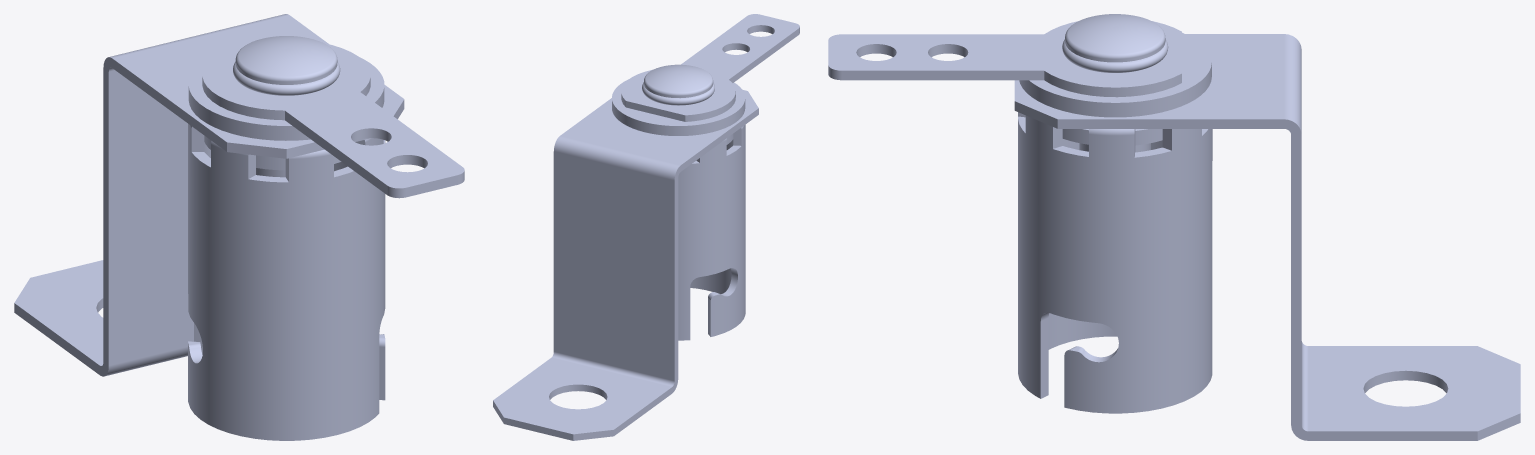
File: Lamp Socket 44, Under Playfield, Bally (E-120-81).fbx
3 views of the same model, side by side, from view 1: azimuth 30°, elevation 25°; view 2: azimuth 150°, elevation 25°; view 3: azimuth 270°, elevation 25° (orthographic). The views are drawn at different scales.
Parts seen in each view (by area): view 1: 44 Socket base, 44 mtg bkt 750, 44 Flat Tab, 44 Rivet spring etc, Fiber washer, Fiber washer INNER; view 2: 44 mtg bkt 750, 44 Socket base, 44 Flat Tab, Fiber washer, 44 Rivet spring etc; view 3: 44 Socket base, 44 mtg bkt 750, 44 Flat Tab, 44 Rivet spring etc, Fiber washer, Fiber washer INNER.
Part boxes in pixels (<box>): 44 Socket base: <box>188,124,385,440</box>; 44 mtg bkt 750: <box>14,14,404,376</box>; 44 Flat Tab: <box>202,43,464,198</box>; 44 Rivet spring etc: <box>233,36,340,177</box>; Fiber washer: <box>188,48,384,140</box>; Fiber washer INNER: <box>204,135,341,170</box>; 44 mtg bkt 750: <box>493,89,758,440</box>; 44 Socket base: <box>678,124,745,340</box>; 44 Flat Tab: <box>621,14,799,121</box>; Fiber washer: <box>612,79,745,135</box>; 44 Rivet spring etc: <box>642,64,714,105</box>; 44 Socket base: <box>1018,112,1212,413</box>; 44 mtg bkt 750: <box>1014,34,1520,440</box>; 44 Flat Tab: <box>828,21,1181,97</box>; 44 Rivet spring etc: <box>1062,14,1168,152</box>; Fiber washer: <box>1019,32,1211,117</box>; Fiber washer INNER: <box>1062,129,1162,145</box>.
Size of the model in its own units: 1.12 by 2.27 by 3.83.
